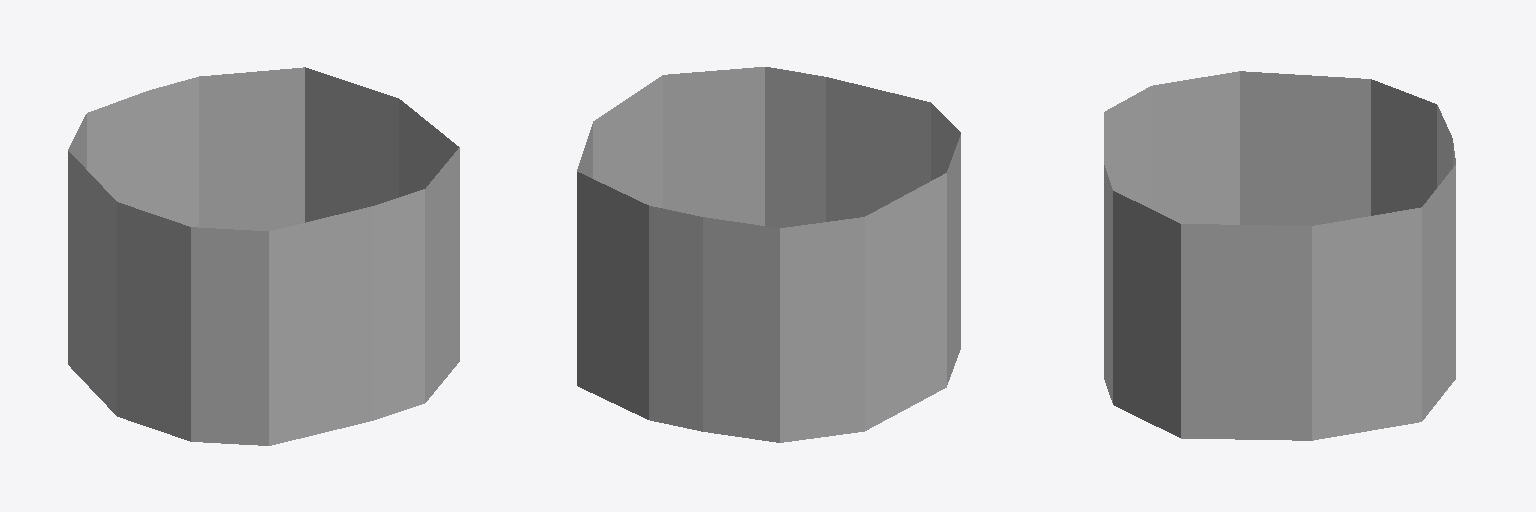
File: pond_cd.obj
3 renders of one model, left to right at view 1: azimuth 30°, elevation 25°; view 2: azimuth 150°, elevation 25°; view 3: azimuth 270°, elevation 25°, orthographic.
Visible parts, largest first — view 1: mesh02; view 2: mesh02; view 3: mesh02.
Boxes of the visible parts, box(x1,y1,x2,y2) form: mesh02: box(68, 67, 459, 445); mesh02: box(577, 67, 960, 442); mesh02: box(1104, 71, 1455, 440).
Size of the model in its own units: 2326 by 1504 by 2237.